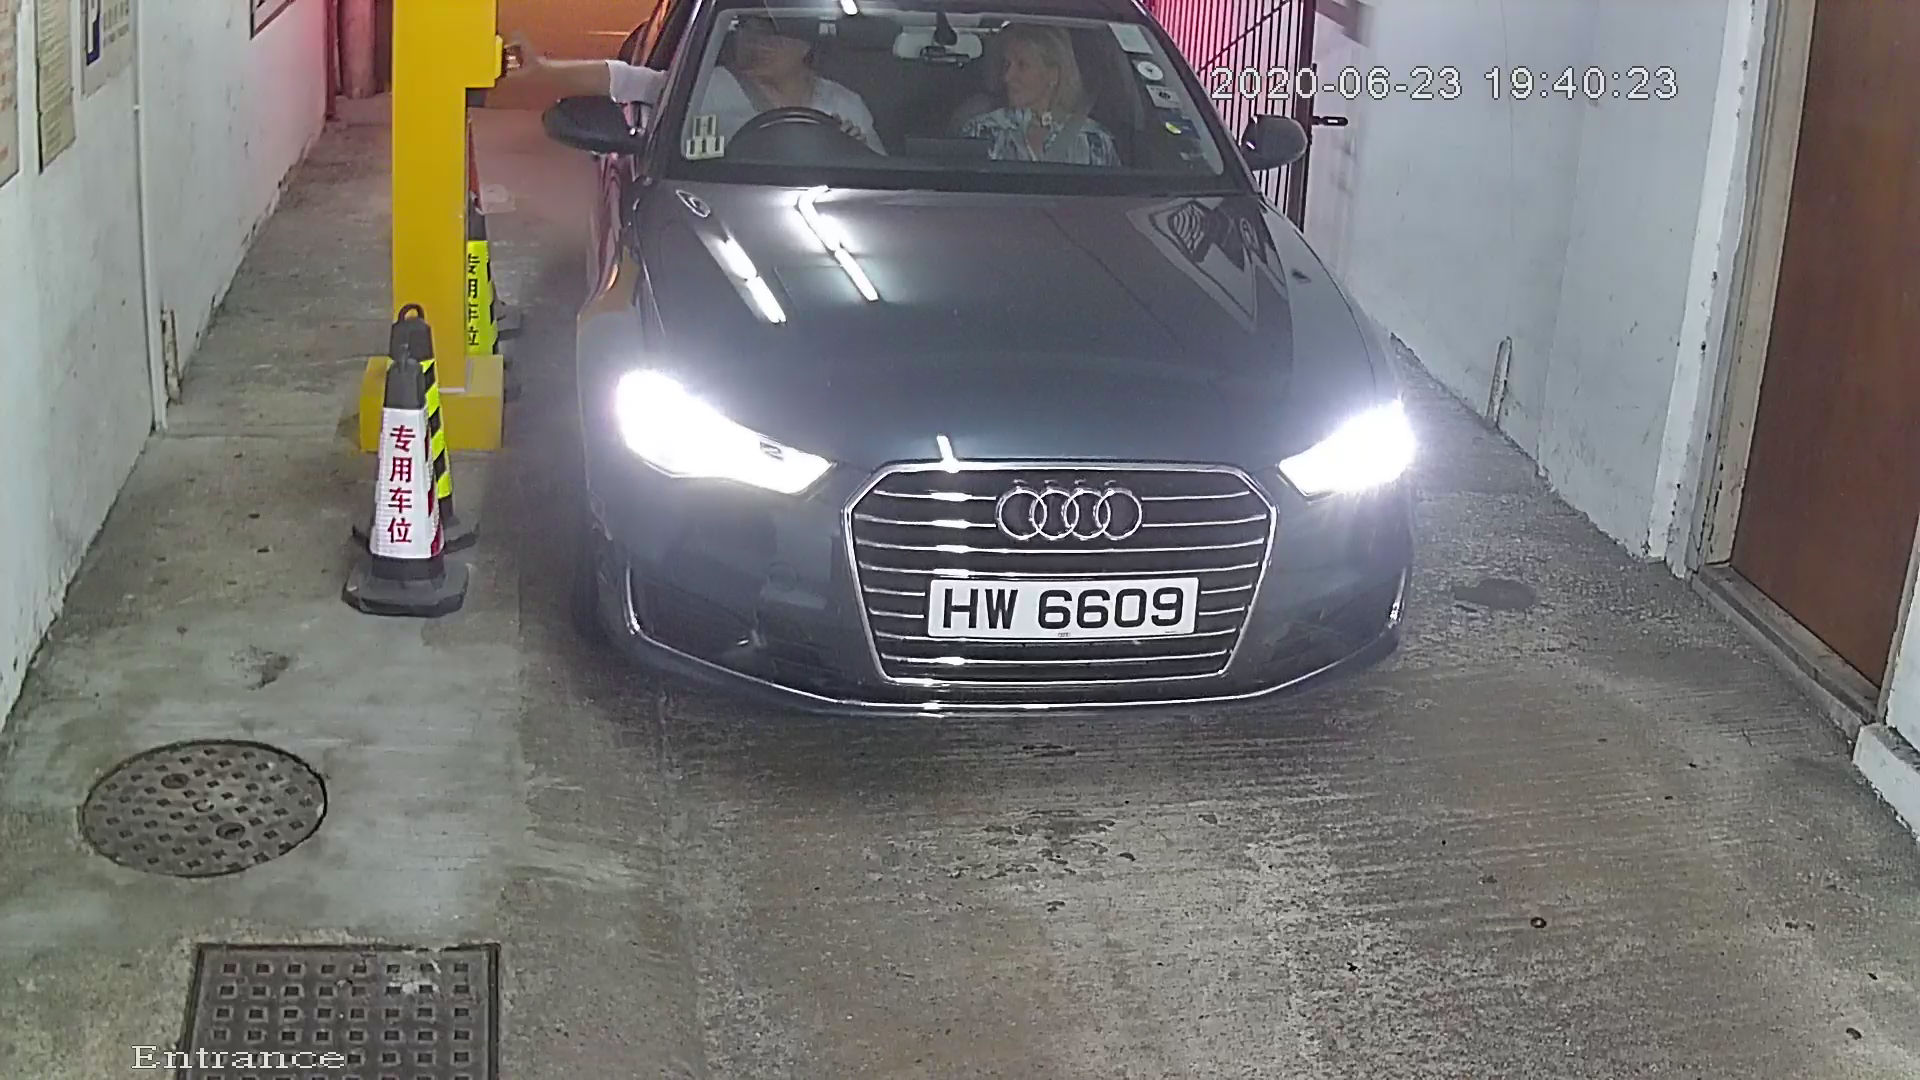privatecar: (537, 3, 1443, 765)
